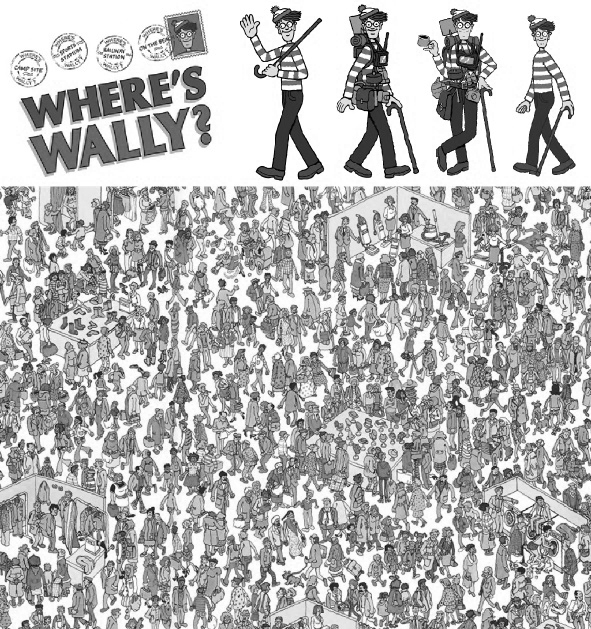Waldo: (236, 5, 328, 179), (420, 4, 499, 174), (342, 2, 413, 176), (513, 6, 576, 176), (168, 16, 205, 55), (94, 267, 110, 293)
